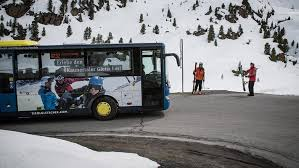bus: (1, 39, 181, 122)
